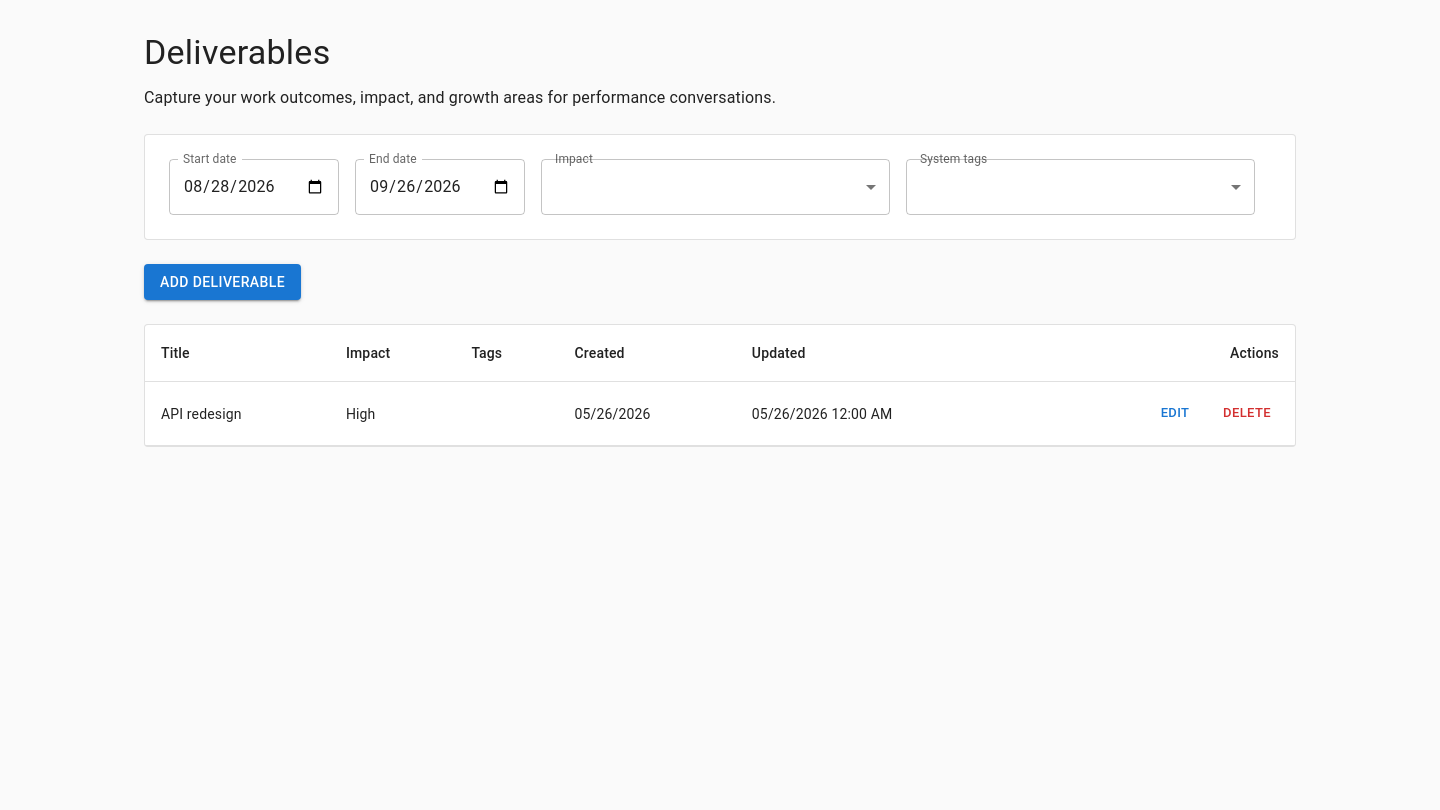
Test: US4 deliverable delete › confirms delete and removes item from list
Expected: the text "API redesign" is shown, x1=145 y1=382 x2=330 y2=446
Click the button "Delete": (1247, 414) x1=1215 y1=398 x2=1279 y2=429
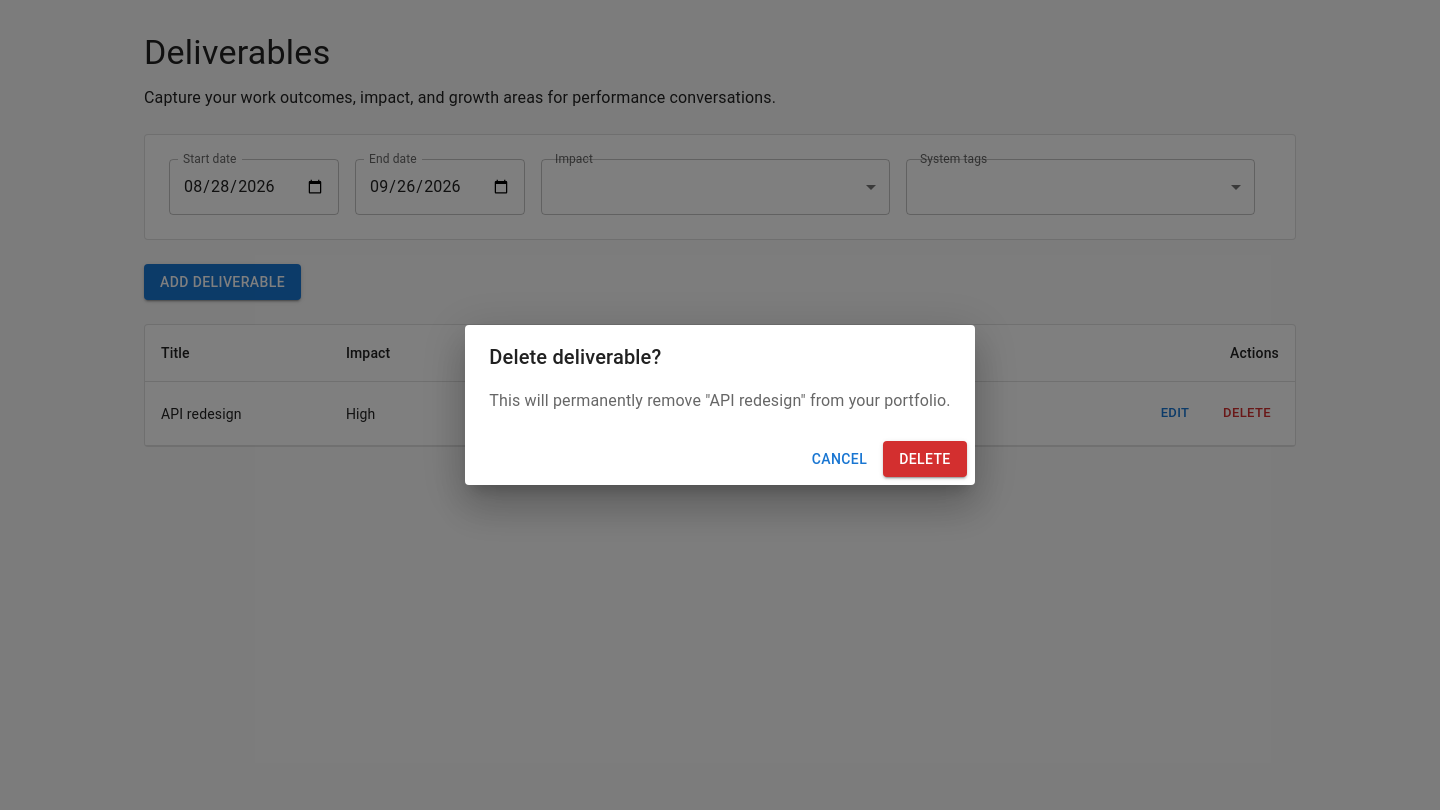
Click the button "Delete": (925, 459) x1=883 y1=441 x2=967 y2=477
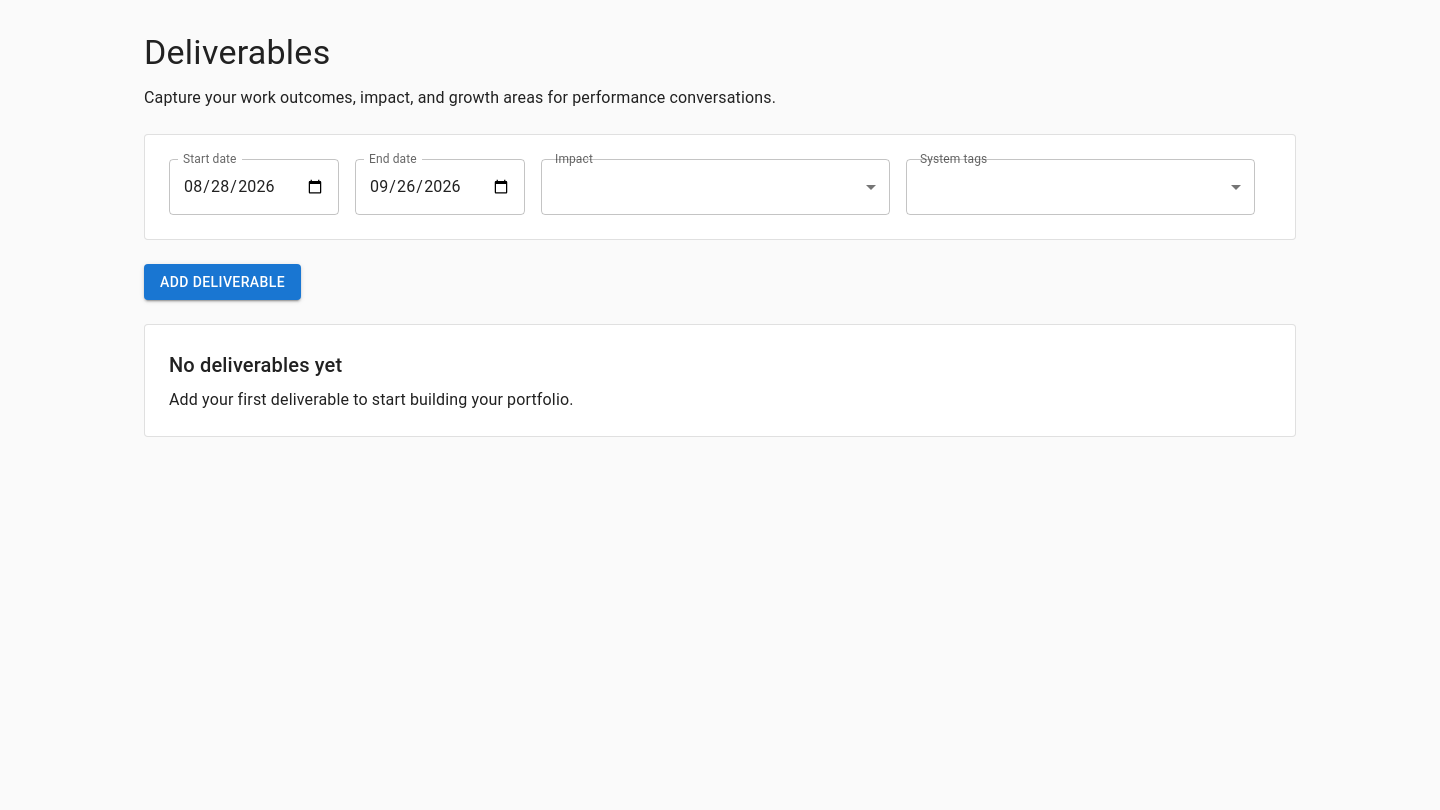
Expected: the heading "No deliverables yet" is shown, x1=169 y1=353 x2=342 y2=377
